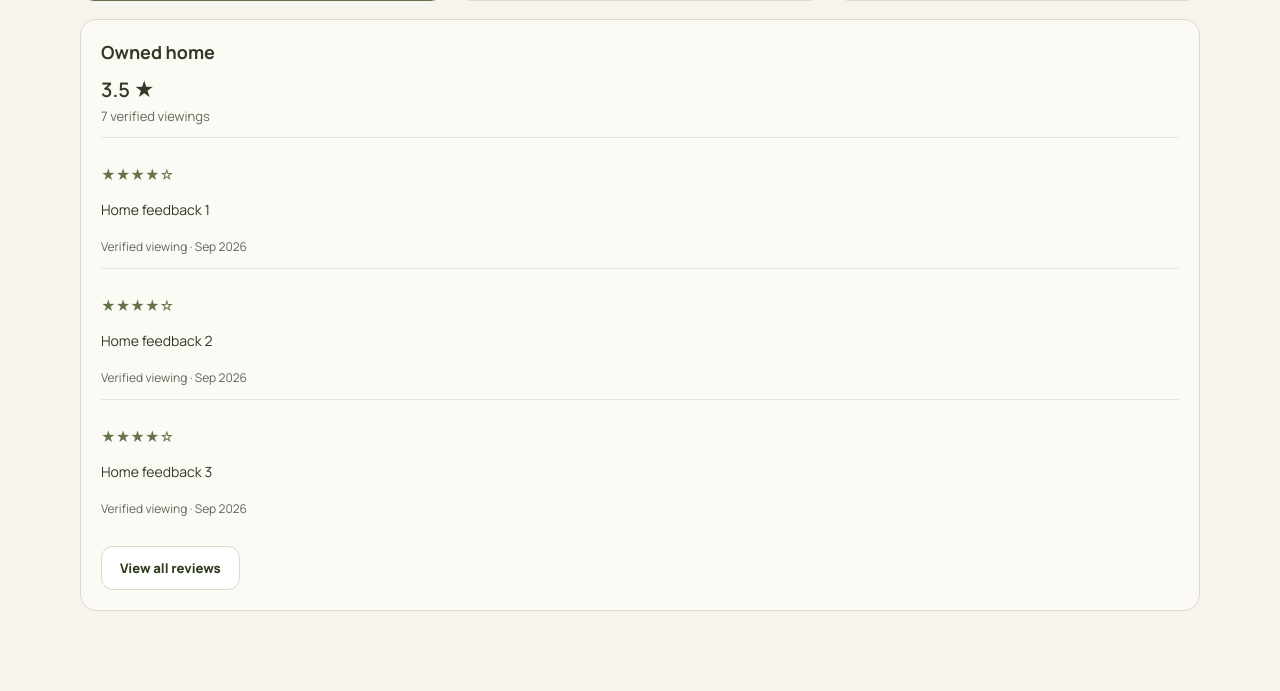
Scenario: retries full-list errors while retaining the three-review preview
The image size is (1280, 691).
(page scrolled)
Click the button "View all reviews": (170, 568) [101,546,240,590]
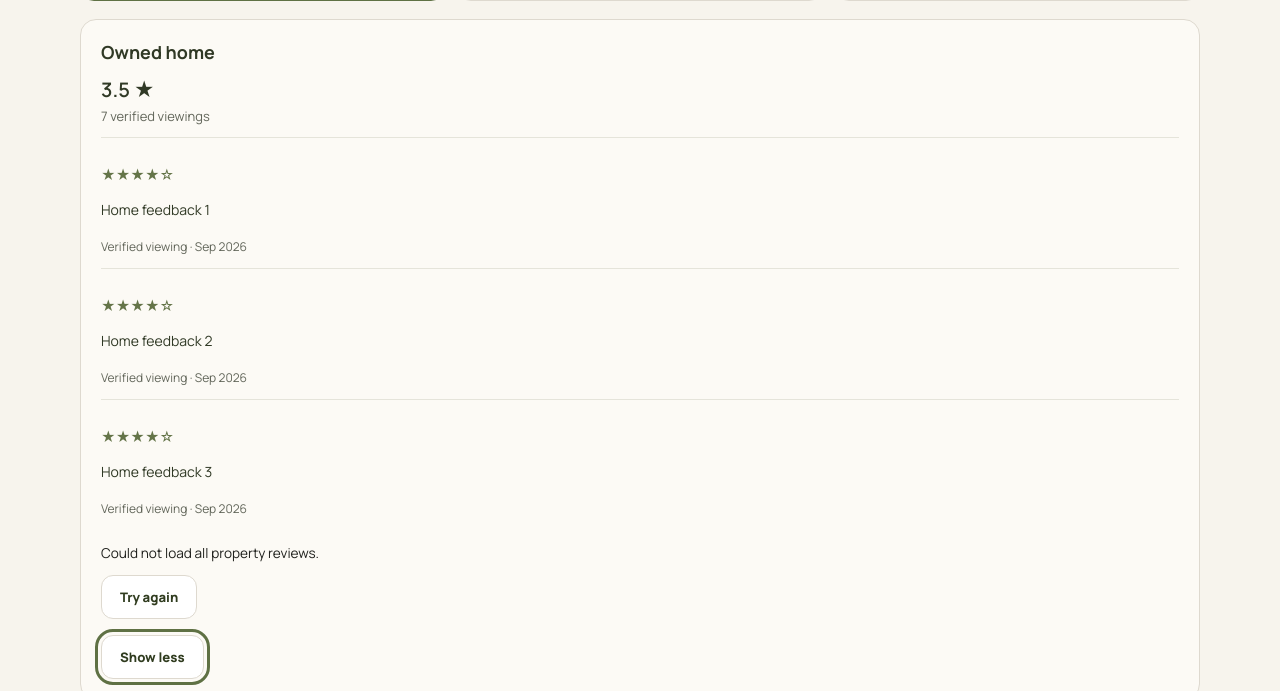
expect the message shows "Could not load all property reviews.": met, box [101,544,319,562]
Click the button "Try again": (149, 597) [101,575,197,619]
(page scrolled)
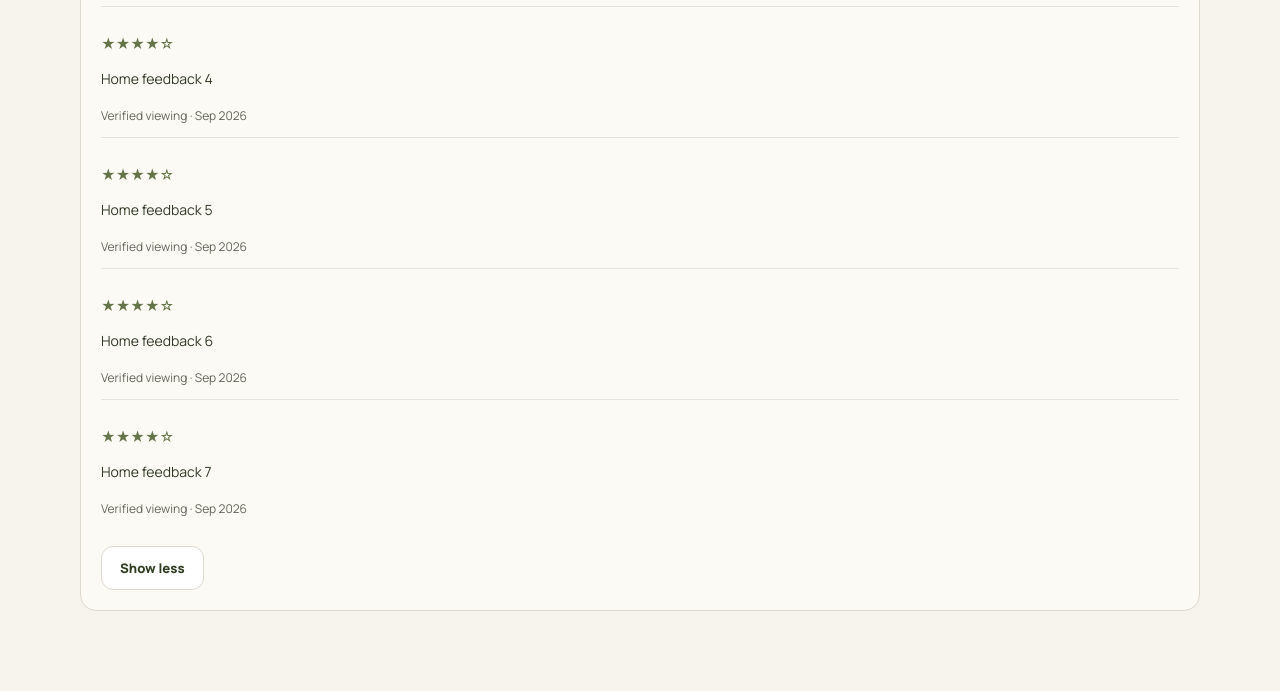
expect the text "Home feedback 7" is shown: met, box [101,462,212,481]
